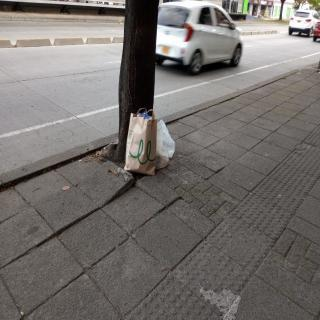Garbage: (125, 106, 158, 177), (155, 118, 177, 172)
